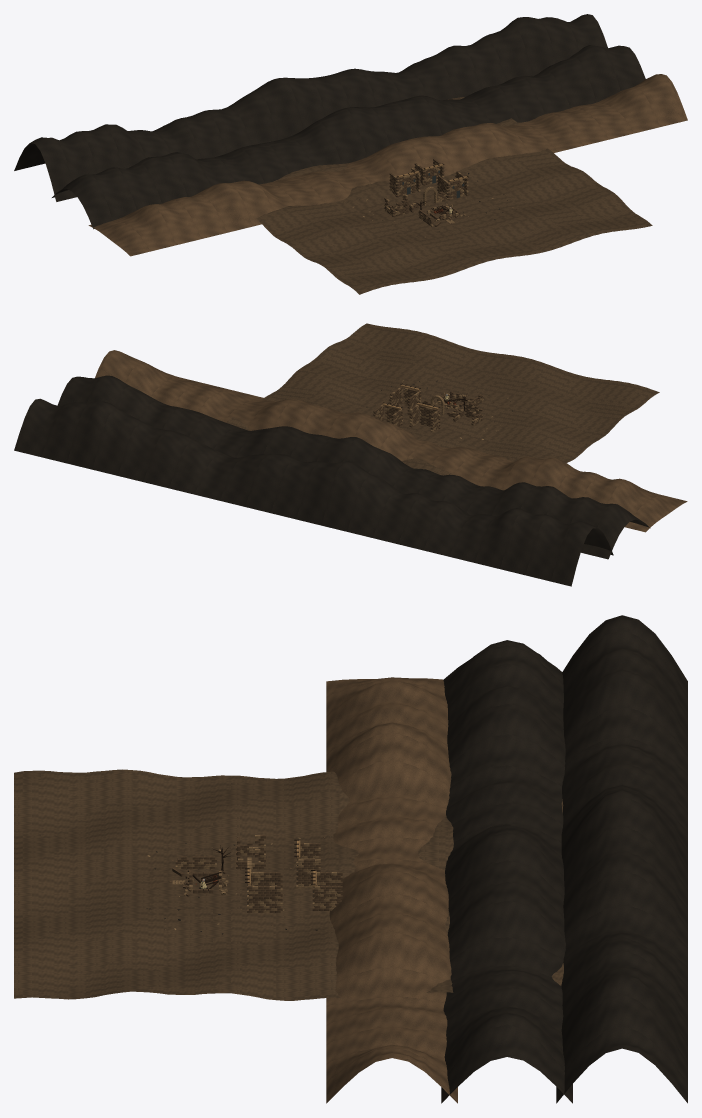
Rendered from chapter-1.glb.
3 views of the same model, one above another, from view 1: azimuth 30°, elevation 25°; view 2: azimuth 150°, elevation 25°; view 3: azimuth 270°, elevation 25° (orthographic). The views are drawn at different scales.
Parts seen in each view (by area): view 1: Continuous weathered terrain 1, Eroded ridge band 2.001, Eroded ridge band 1.001, Eroded ridge band 0.001; view 2: Eroded ridge band 2.001, Continuous weathered terrain 1, Eroded ridge band 0.001, Eroded ridge band 1.001; view 3: Continuous weathered terrain 1, Eroded ridge band 2.001, Eroded ridge band 1.001, Eroded ridge band 0.001.
Part boxes in pixels (x1,y1,x2,y2): Continuous weathered terrain 1: [256, 97, 652, 294]; Eroded ridge band 2.001: [14, 14, 607, 201]; Eroded ridge band 1.001: [52, 45, 645, 229]; Eroded ridge band 0.001: [88, 74, 687, 256]; Eroded ridge band 2.001: [14, 398, 613, 586]; Continuous weathered terrain 1: [226, 323, 659, 475]; Eroded ridge band 0.001: [95, 350, 687, 532]; Eroded ridge band 1.001: [57, 375, 650, 559]; Continuous weathered terrain 1: [14, 769, 563, 1000]; Eroded ridge band 2.001: [556, 615, 687, 1103]; Eroded ridge band 1.001: [441, 640, 572, 1103]; Eroded ridge band 0.001: [326, 677, 457, 1103].
Size of the model in its own units: 182 by 15.62 by 123.
13 materials, 9 textured.
